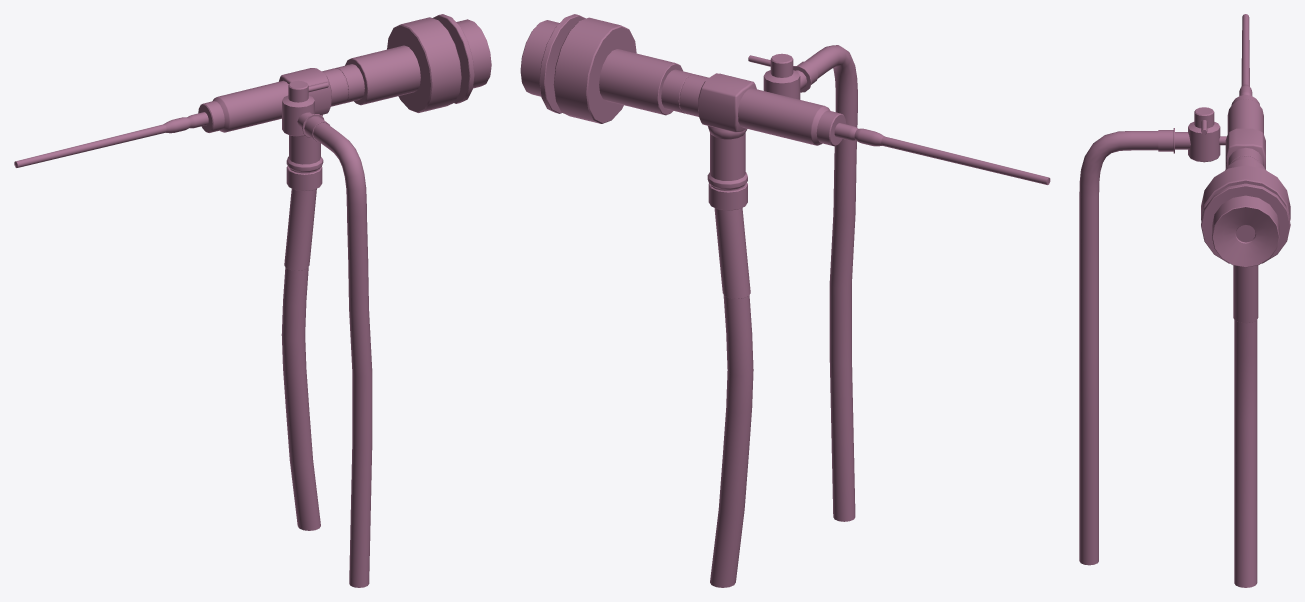
The model's file is Tools_Arthroscope_01.fbx.
3 renders of one model, left to right at view 1: azimuth 30°, elevation 25°; view 2: azimuth 150°, elevation 25°; view 3: azimuth 270°, elevation 25°, orthographic. The views are drawn at different scales.
Parts seen in each view (by area): view 1: Tools_Arthroscope_01:Tools_Arthroscope_01; view 2: Tools_Arthroscope_01:Tools_Arthroscope_01; view 3: Tools_Arthroscope_01:Tools_Arthroscope_01.
Boxes of the visible parts, left/top/right/bottom form: Tools_Arthroscope_01:Tools_Arthroscope_01: left=14, top=14, right=491, bottom=587; Tools_Arthroscope_01:Tools_Arthroscope_01: left=520, top=14, right=1050, bottom=587; Tools_Arthroscope_01:Tools_Arthroscope_01: left=1079, top=14, right=1290, bottom=587.
Size of the model in its own units: 14.14 by 13.96 by 5.73.
